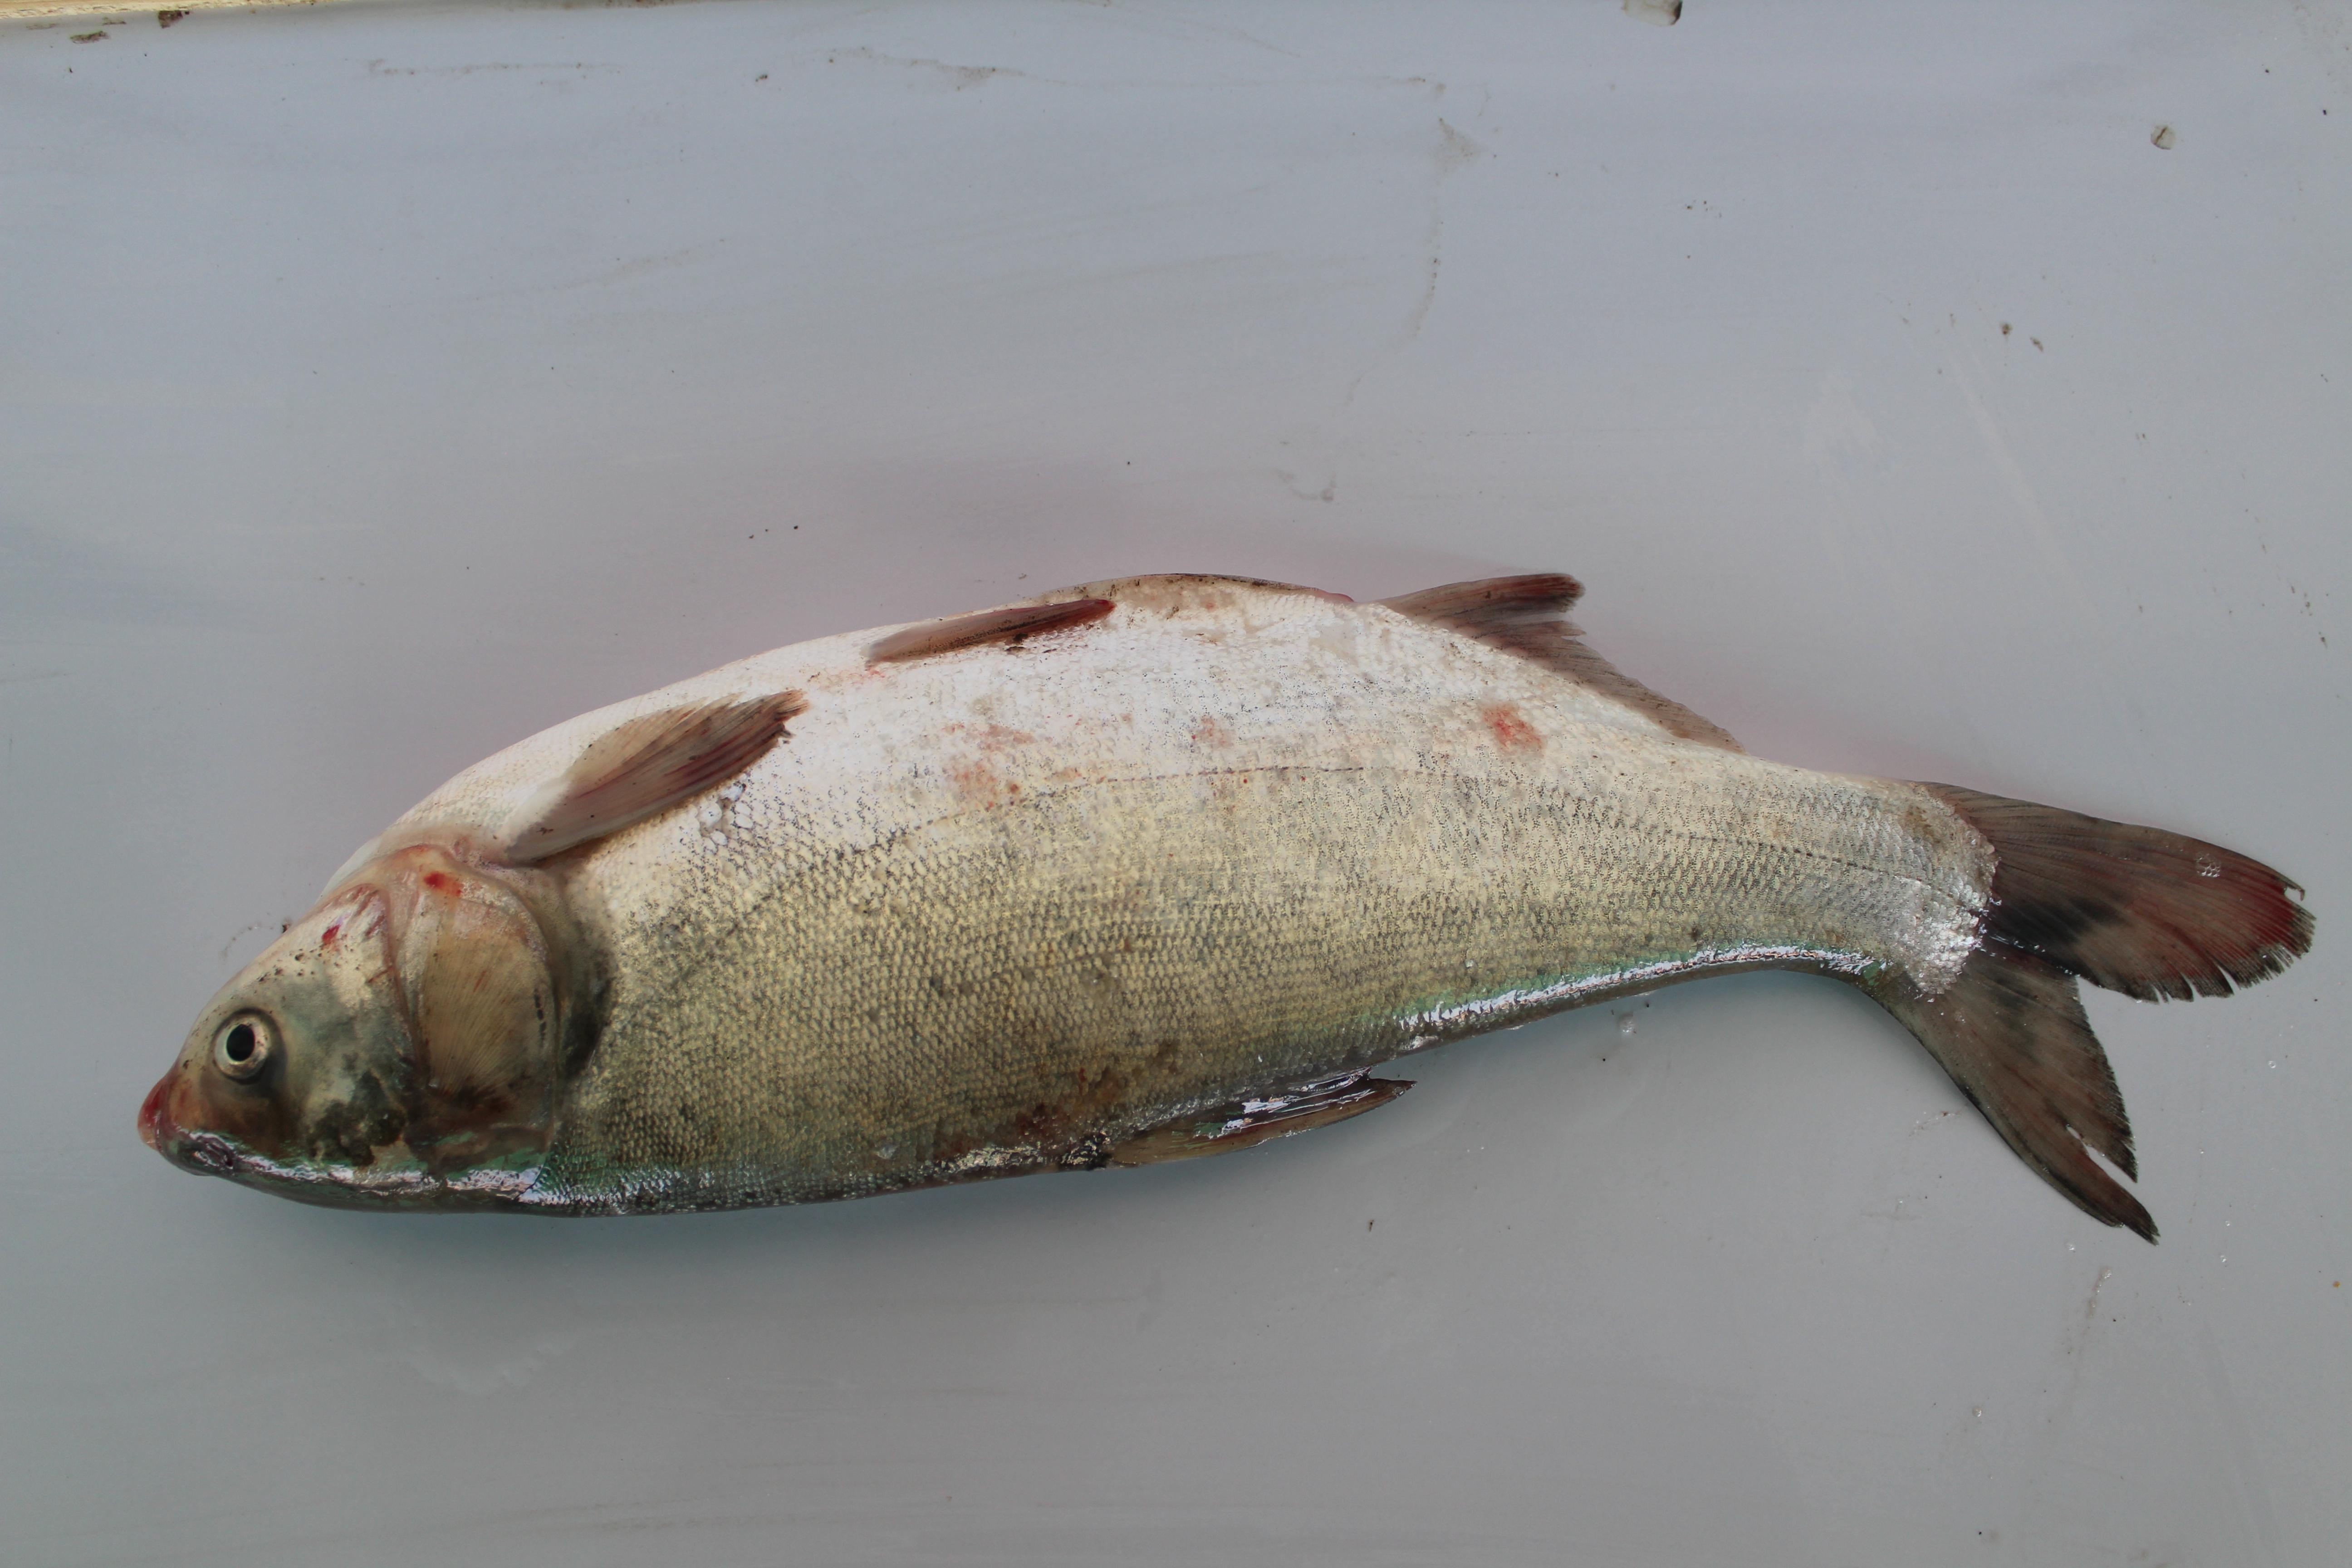Silver Carp: (150, 572, 2319, 1239)
